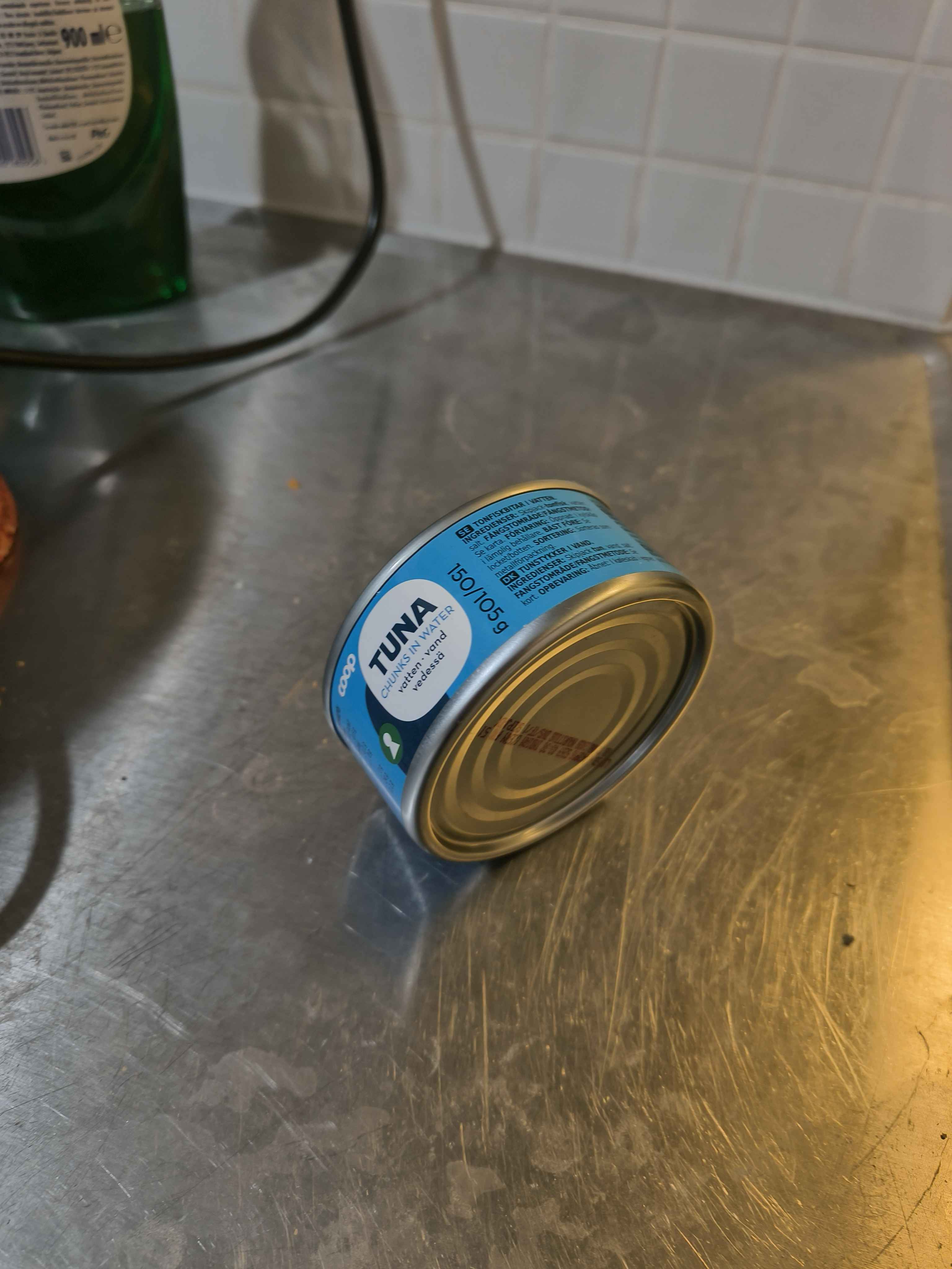Konservburk: (323, 482, 716, 866)
